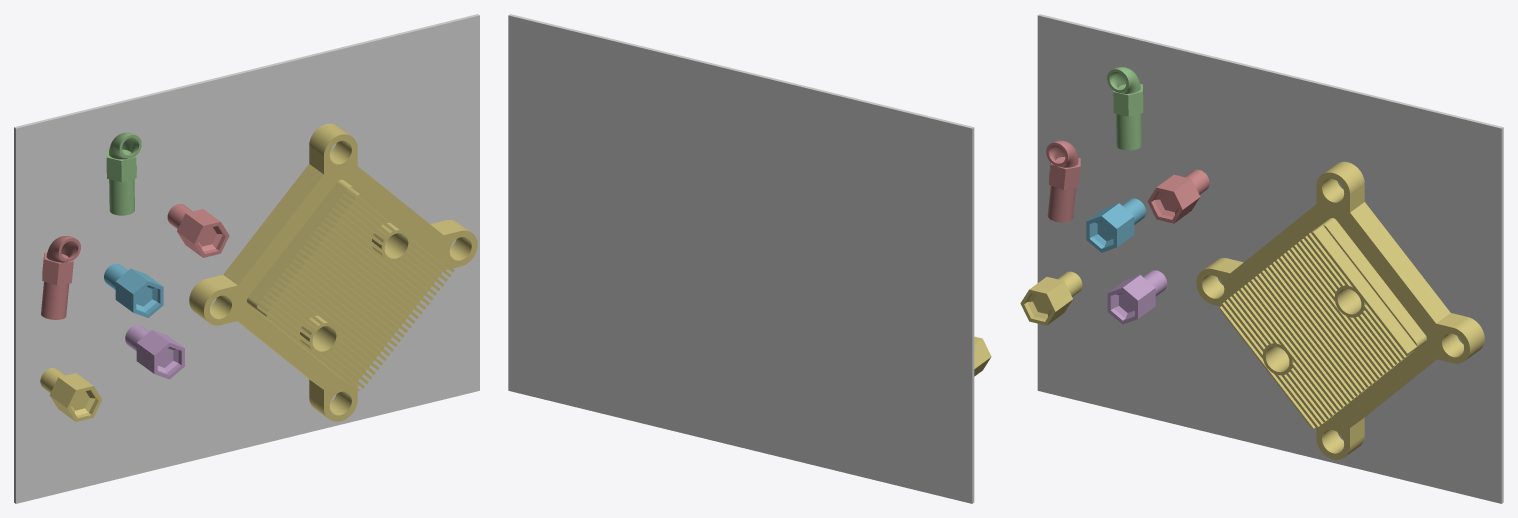
Rendered from pickup_layout.glb.
3 views of the same model, side by side, from view 1: azimuth 30°, elevation 25°; view 2: azimuth 150°, elevation 25°; view 3: azimuth 330°, elevation 25° (orthographic).
Parts seen in each view (by area): view 1: world, 1.obj, 0.obj, 4.obj, 5.obj, 6.obj, 2.obj, 3.obj; view 2: world; view 3: world, 1.obj, 4.obj, 0.obj, 6.obj, 5.obj, 3.obj, 2.obj.
Boxes of the visible parts, x1,y1,x2,y2 form: world: [14, 14, 479, 503]; 1.obj: [189, 123, 477, 421]; 0.obj: [41, 236, 80, 319]; 4.obj: [106, 132, 141, 215]; 5.obj: [167, 204, 229, 257]; 6.obj: [40, 368, 102, 421]; 2.obj: [104, 263, 163, 317]; 3.obj: [125, 325, 184, 379]; world: [508, 14, 974, 503]; world: [1037, 14, 1503, 503]; 1.obj: [1196, 161, 1484, 459]; 4.obj: [1107, 67, 1143, 150]; 0.obj: [1046, 140, 1080, 222]; 6.obj: [1020, 271, 1082, 325]; 5.obj: [1147, 169, 1209, 223]; 3.obj: [1107, 270, 1167, 324]; 2.obj: [1086, 198, 1145, 252].
Bounding box in the file's own units: 27.36 × 21.15 × 3.7.
